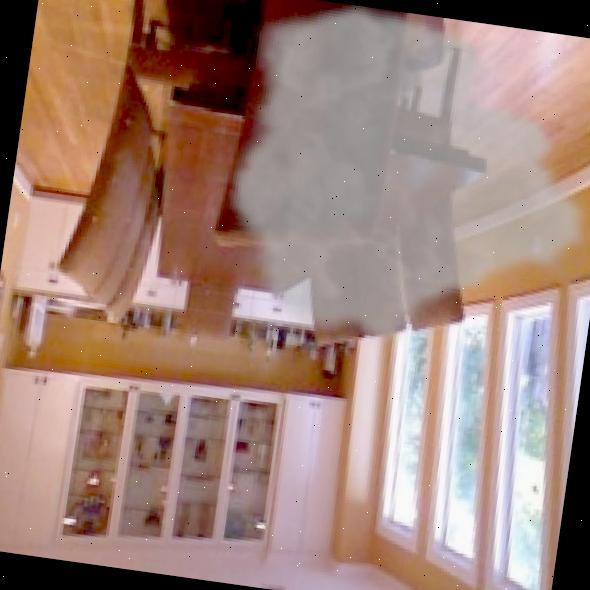smoke: (207, 0, 590, 379)
